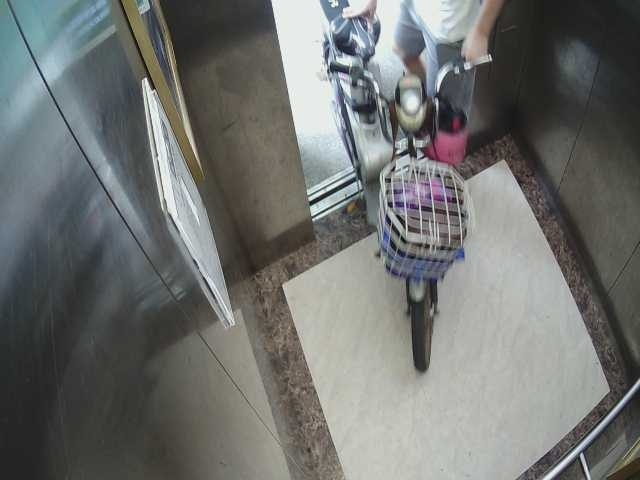emotor: (310, 1, 487, 382)
